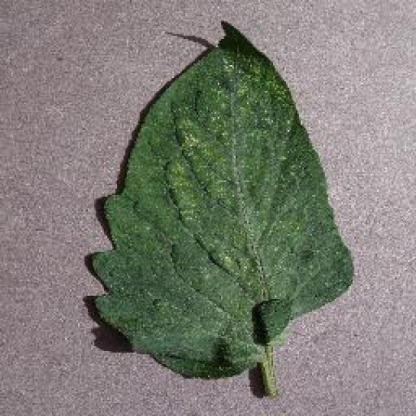Tomato_Spider_Mites: (88, 21, 351, 377)
